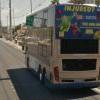Bus: (15, 6, 97, 94)
